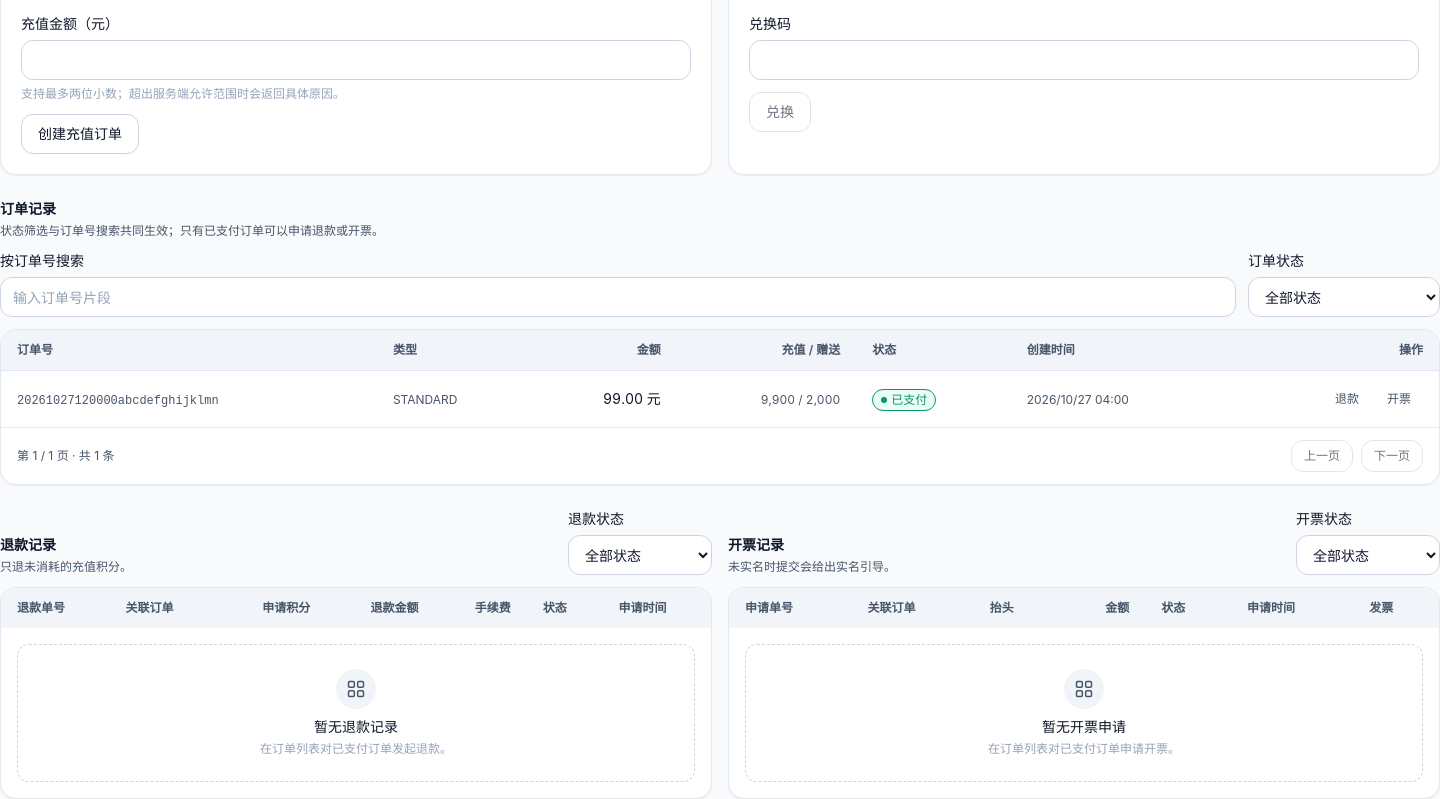
RechargePage › shows real-name guidance instead of a red error for 403 account_not_verified
(page scrolled)
expect the text "20261027120000abcdefghijklmn" is shown: met, box left=17, top=394, right=219, bottom=408
Step 1. Click the button "开票" → (1399, 399), box left=1375, top=383, right=1423, bottom=415
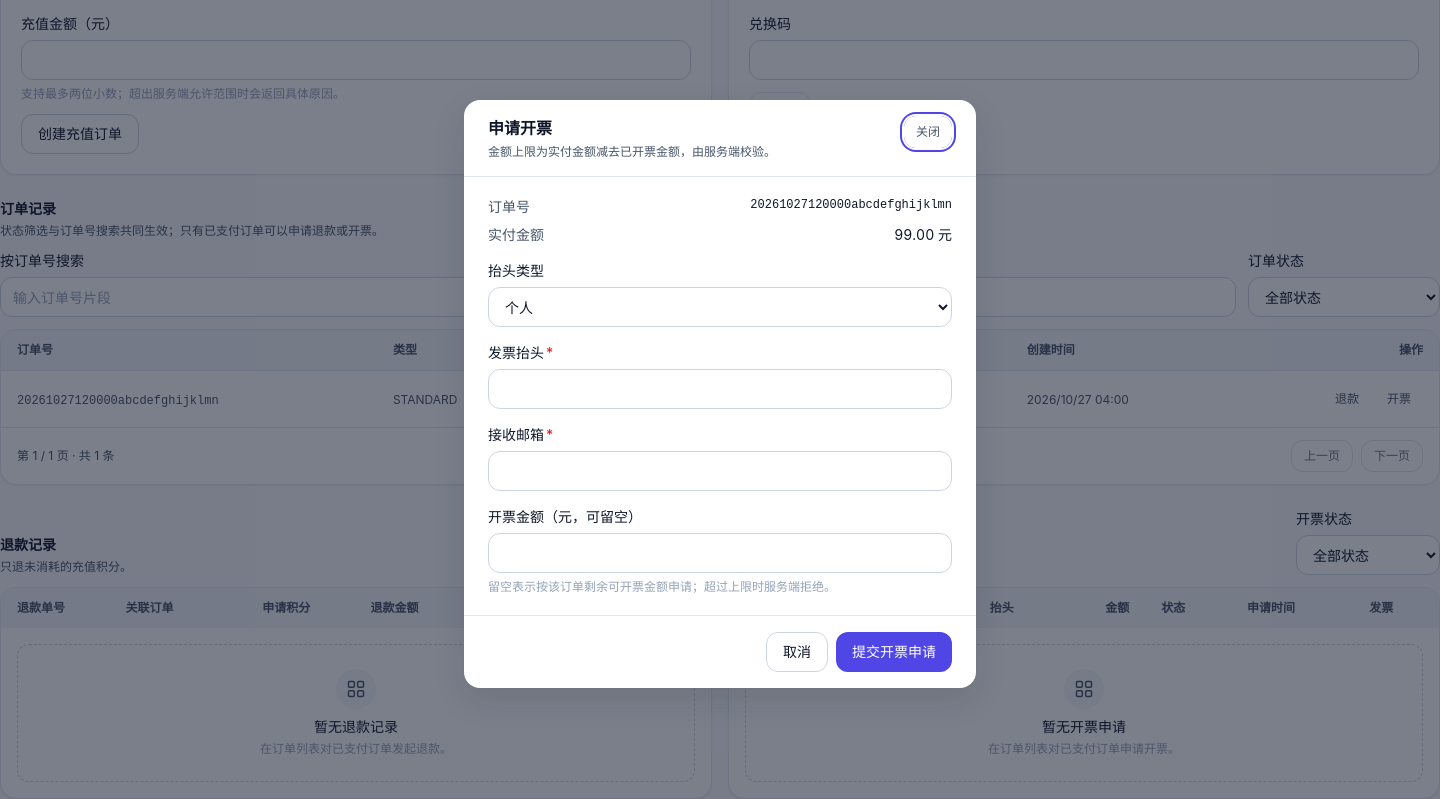
Step 2. Type "云枢科技" into the field labelled "发票抬头*" → (720, 389), box left=488, top=369, right=952, bottom=409
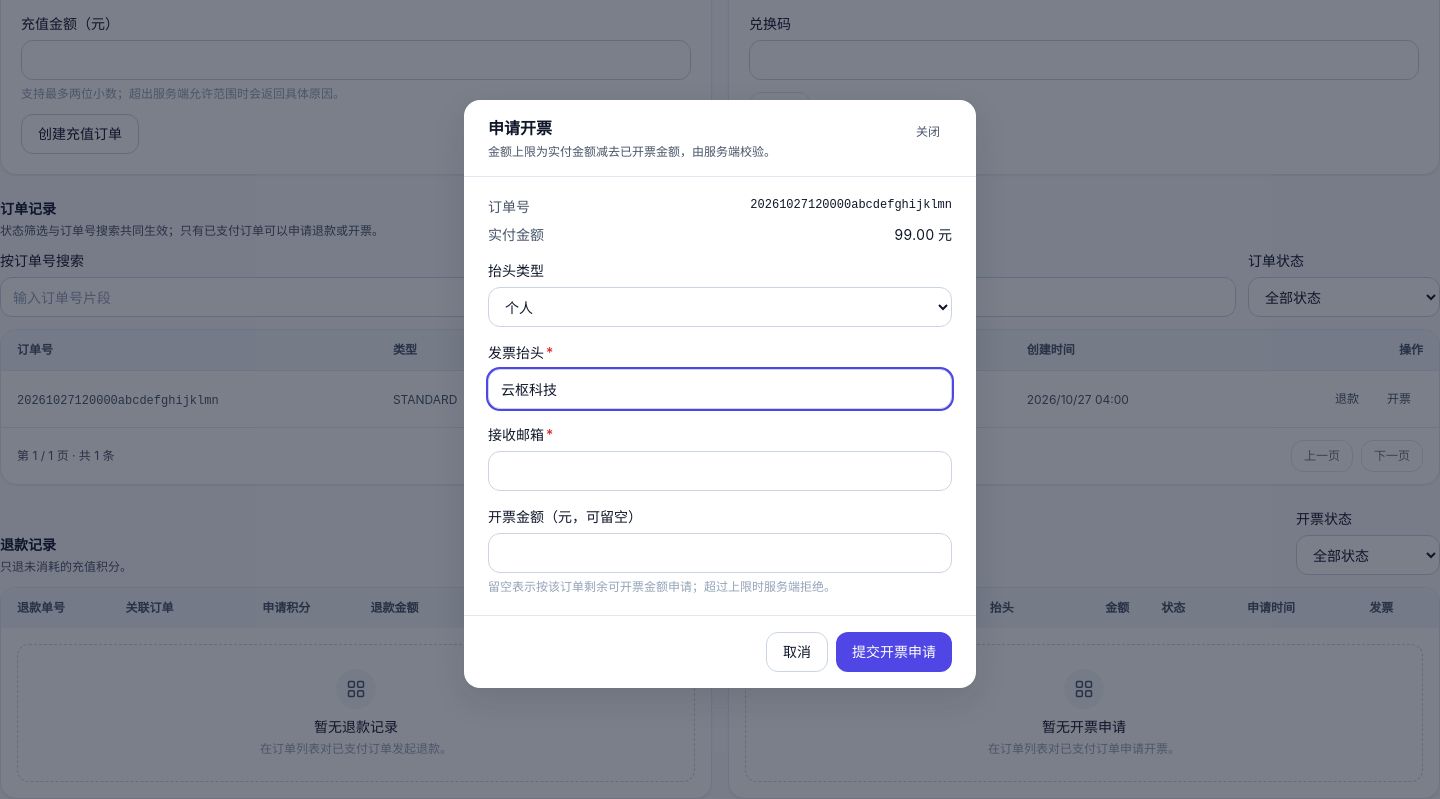
Step 3. Type "billing@example.com" into the field labelled "接收邮箱*" → (720, 471), box left=488, top=451, right=952, bottom=491
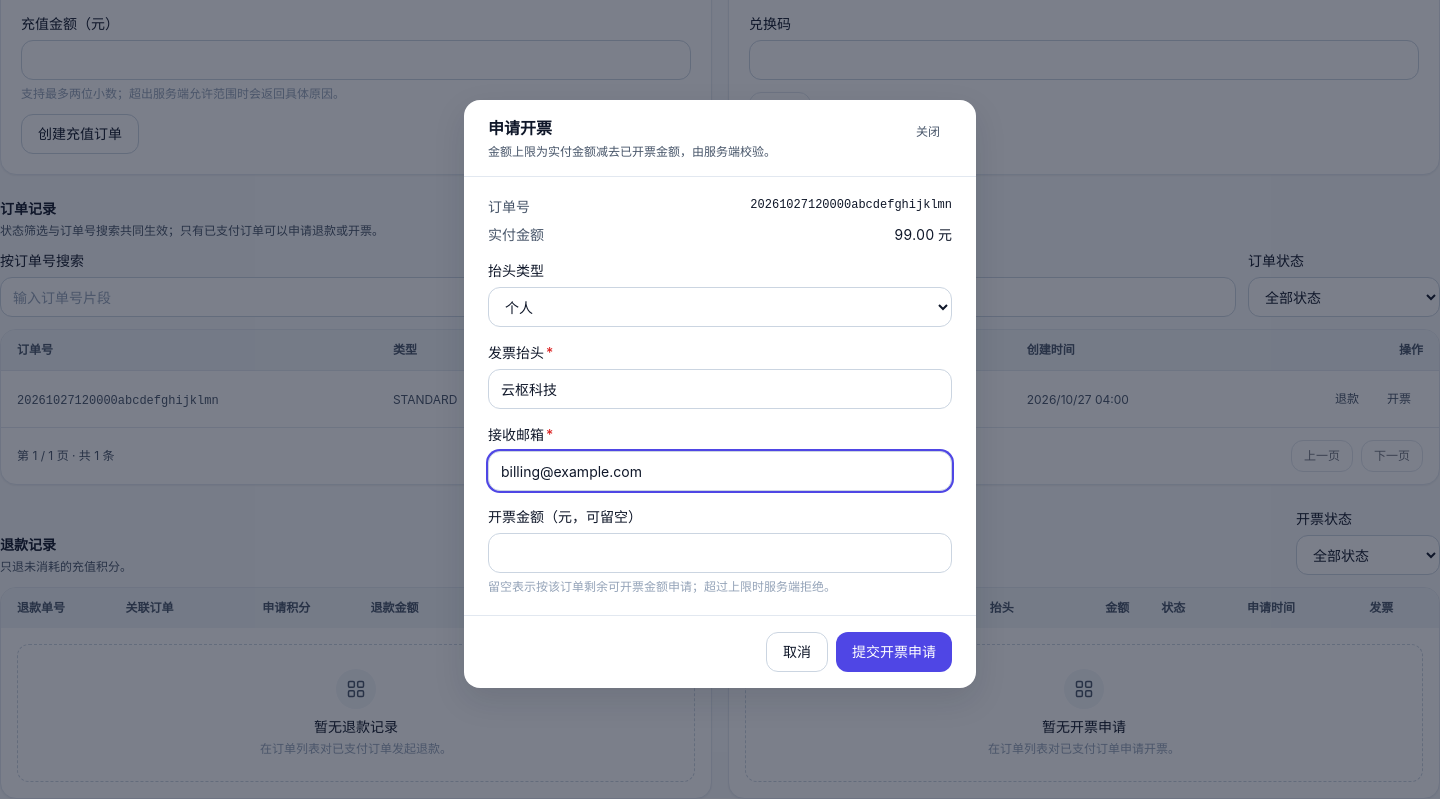
Step 4. Click the button "提交开票申请" → (894, 652), box left=836, top=632, right=952, bottom=672
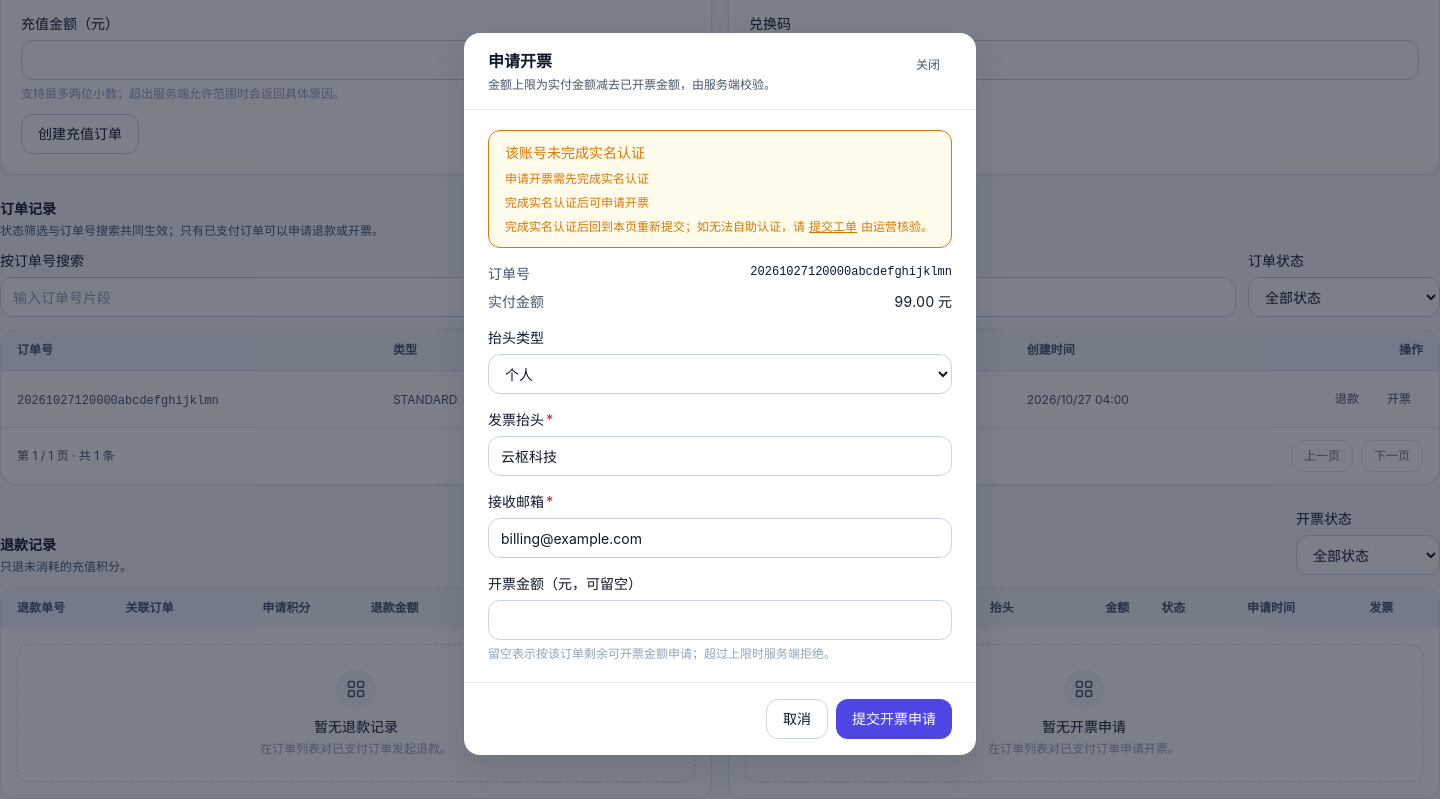
expect the text "该账号未完成实名认证" is shown: met, box left=505, top=144, right=645, bottom=161
expect the text "申请开票需先完成实名认证" is shown: met, box left=505, top=171, right=649, bottom=186
expect the text "完成实名认证后可申请开票" is shown: met, box left=505, top=195, right=649, bottom=210
